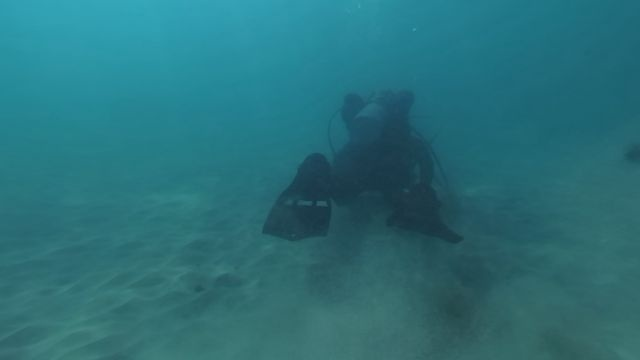Diver: (257, 84, 475, 255)
